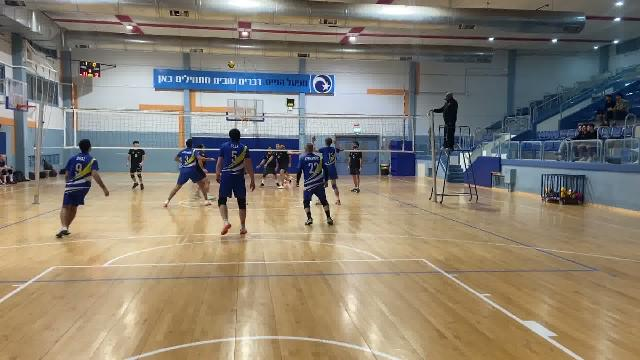ball: (225, 59, 239, 70)
